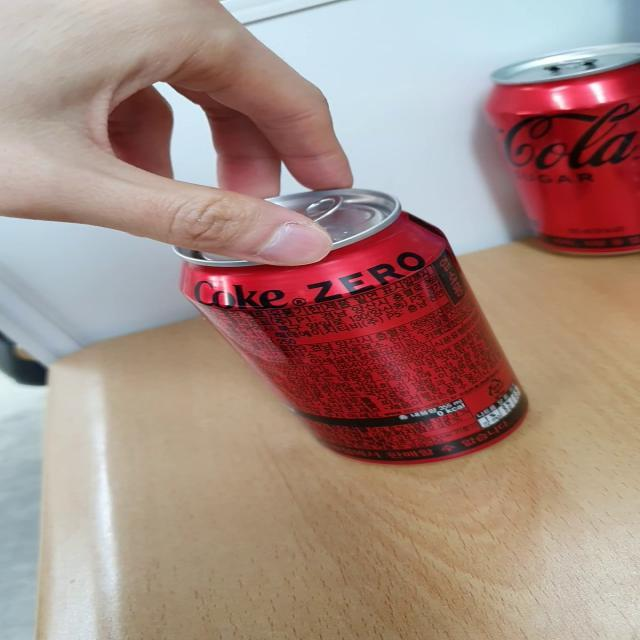coca-cola: (168, 178, 562, 486), (472, 35, 640, 268)
